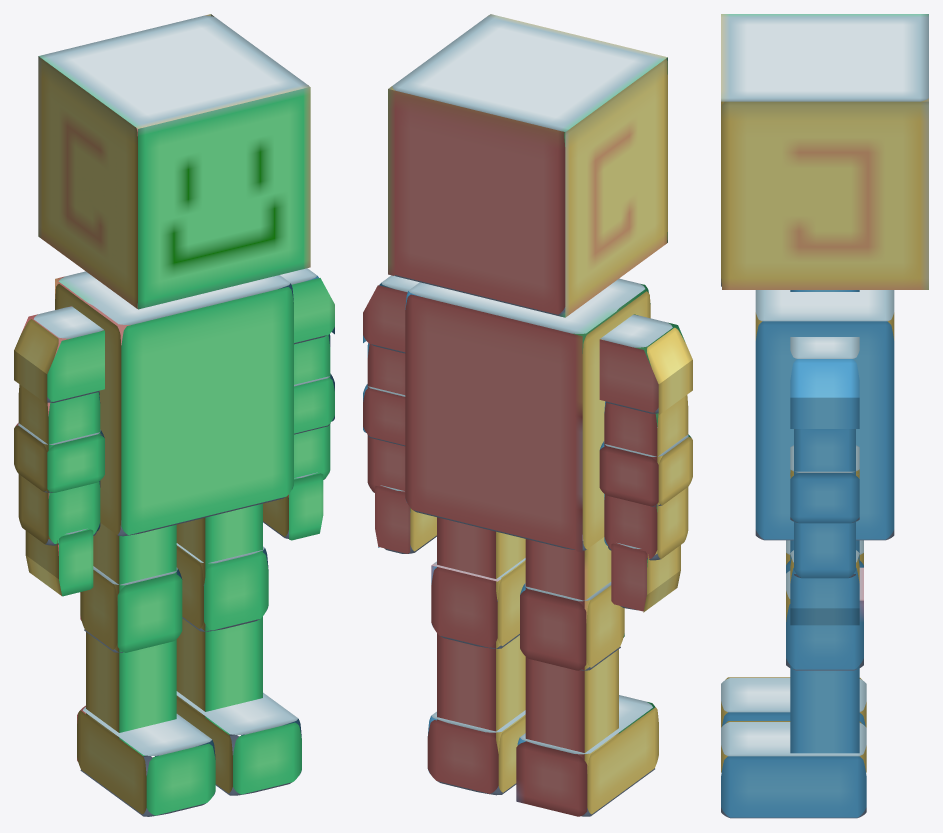
File: Humanoid-0.fbx
3 renders of one model, left to right at view 1: azimuth 30°, elevation 25°; view 2: azimuth 150°, elevation 25°; view 3: azimuth 270°, elevation 25°, orthographic. The views are drawn at different scales.
Parts seen in each view (by area): view 1: head, chest, footR, FootL, lowerLegR, shoulderR, LowerLeg, kneecapR, Kneecap, elbowCapR, lowerArmR, upperLegR (+8 smaller); view 2: head, chest, footR, lowerLegR, shoulderR, LowerLeg, kneecapR, Kneecap, FootL, elbowCapR, lowerArmR, upperLegR (+8 smaller); view 3: head, chest, FootL, shoulderL, LowerLeg, Kneecap, elbowCapL, handL, lowerArmL, footR, upperArmL.
Part boxes in pixels (x1,y1,x2,y2): head: (38,14,310,309); chest: (55,271,293,536); footR: (77,705,215,816); FootL: (176,691,301,795); lowerLegR: (86,632,176,756); shoulderR: (14,306,104,403); LowerLeg: (176,616,262,735); kneecapR: (80,566,182,652); Kneecap: (176,543,268,631); elbowCapR: (14,423,104,492); lowerArmR: (18,474,100,545); upperLegR: (93,523,176,605); head: (388,14,667,317); chest: (405,278,650,552); footR: (516,695,658,816); lowerLegR: (525,649,618,773); shoulderR: (599,314,692,414); LowerLeg: (437,633,525,753); kneecapR: (520,582,624,670); Kneecap: (431,558,525,648); FootL: (427,710,525,795); elbowCapR: (599,427,692,506); lowerArmR: (604,487,688,560); upperLegR: (525,537,611,622); head: (721,14,928,289); chest: (755,290,894,540); FootL: (721,721,866,818); shoulderL: (790,337,859,428); LowerLeg: (790,665,859,753); Kneecap: (786,567,863,670); elbowCapL: (790,445,859,523); handL: (790,550,859,625); lowerArmL: (794,521,855,578); footR: (721,677,866,727); upperArmL: (794,429,855,475).
Size of the model in its own units: 62.5 by 144 by 37.5.
Materials: 1 (1 with a texture image).
